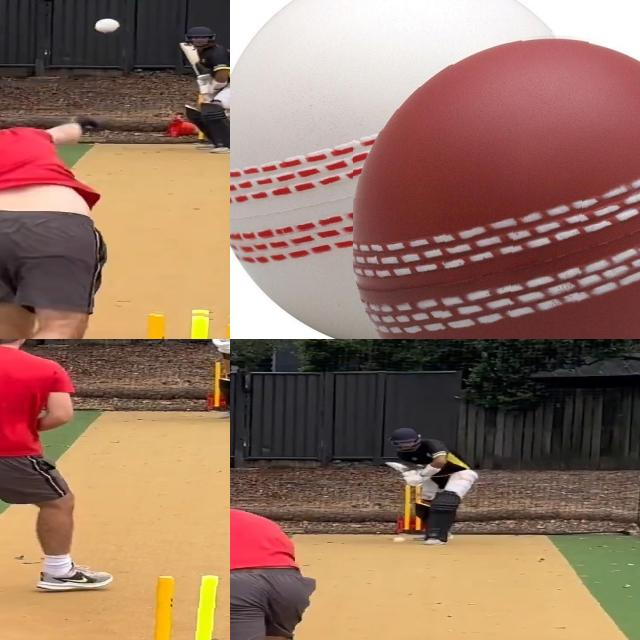Cricket ball: (352, 29, 640, 339), (93, 15, 125, 38), (393, 536, 407, 544)
Stumps: (137, 573, 230, 640)
